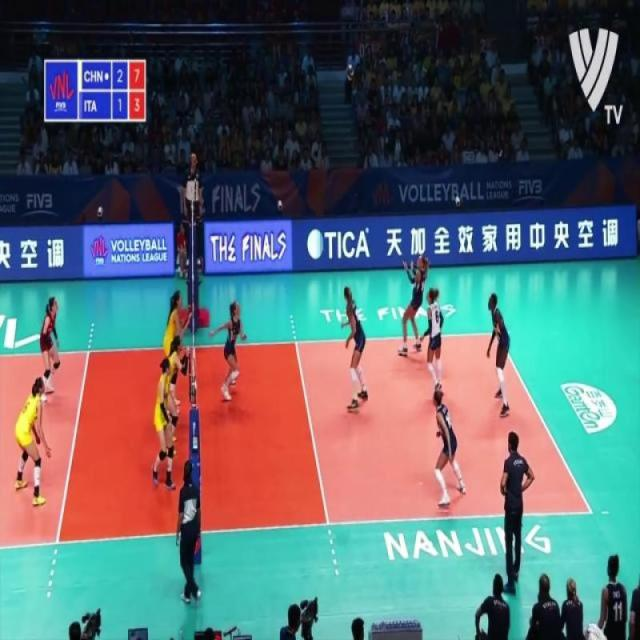volleyball: (346, 63, 354, 79)
